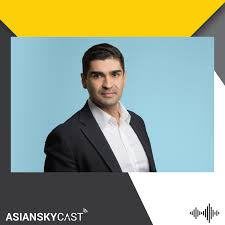asian_male: (71, 36, 130, 110)
